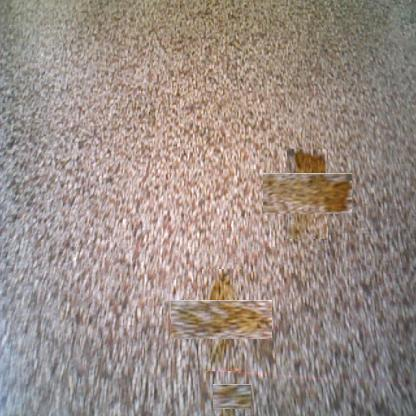liquid: (186, 285, 257, 355), (275, 161, 340, 227), (217, 381, 248, 413)
